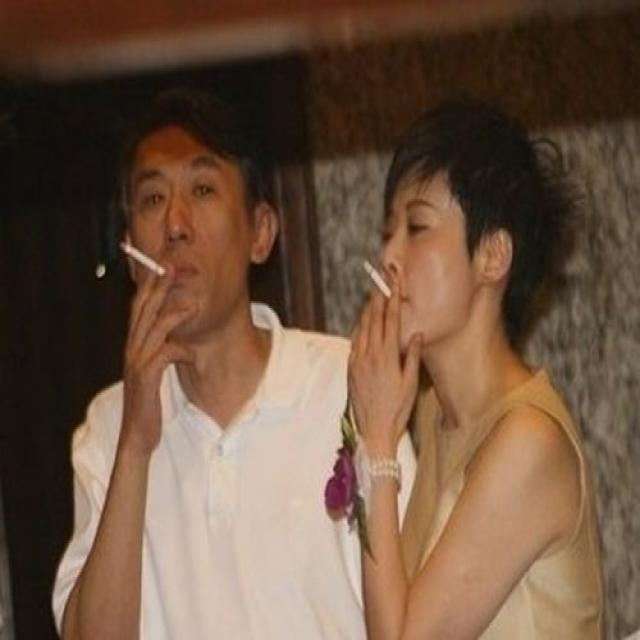cigarette: (118, 241, 167, 279), (362, 258, 392, 299)
